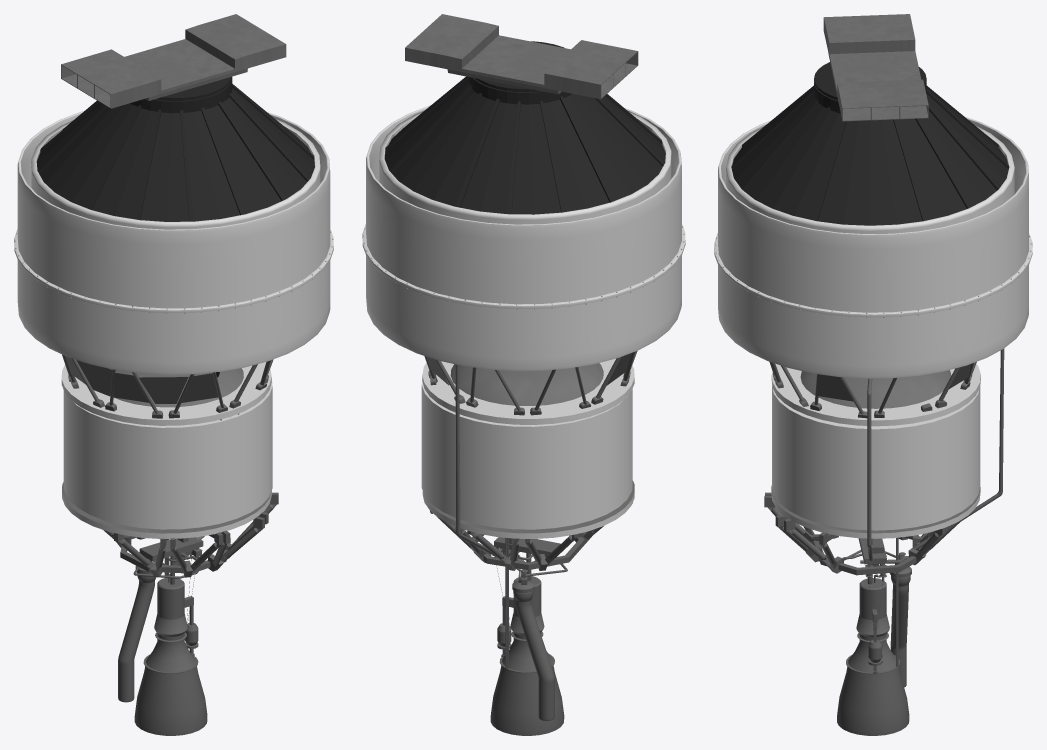
File: Nuti_Stage3.fbx
3 renders of one model, left to right at view 1: azimuth 30°, elevation 25°; view 2: azimuth 150°, elevation 25°; view 3: azimuth 270°, elevation 25°, orthographic.
Visible parts, largest first — view 1: 3단 본체, Rocket_hull.003, 3단 로켓, Cube.001, Hull_part_015; view 2: 3단 본체, Rocket_hull.003, 3단 로켓, Cube.001, Hull_part_015; view 3: 3단 본체, Rocket_hull.003, 3단 로켓, Cube.001, Hull_part_015.
Boxes of the visible parts, x1,y1,x2,y2 form: 3단 본체: (31, 14, 320, 538); Rocket_hull.003: (17, 111, 330, 374); 3단 로켓: (103, 492, 278, 735); Cube.001: (62, 354, 273, 559); Hull_part_015: (14, 229, 333, 313); 3단 본체: (379, 14, 671, 538); Rocket_hull.003: (366, 105, 681, 370); 3단 로켓: (430, 503, 632, 735); Cube.001: (424, 351, 637, 556); Hull_part_015: (362, 224, 685, 309); 3단 본체: (726, 14, 1014, 538); Rocket_hull.003: (718, 117, 1028, 378); 3단 로켓: (764, 492, 963, 735); Cube.001: (769, 348, 1004, 563); Hull_part_015: (714, 233, 1032, 318).
Bounding box in the file's own units: 271 × 621 × 271.
3 materials, 1 textured.
